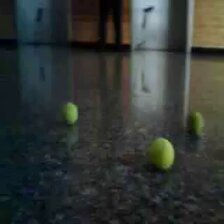tennis: (146, 137, 175, 170), (185, 112, 206, 135), (62, 103, 78, 126)
